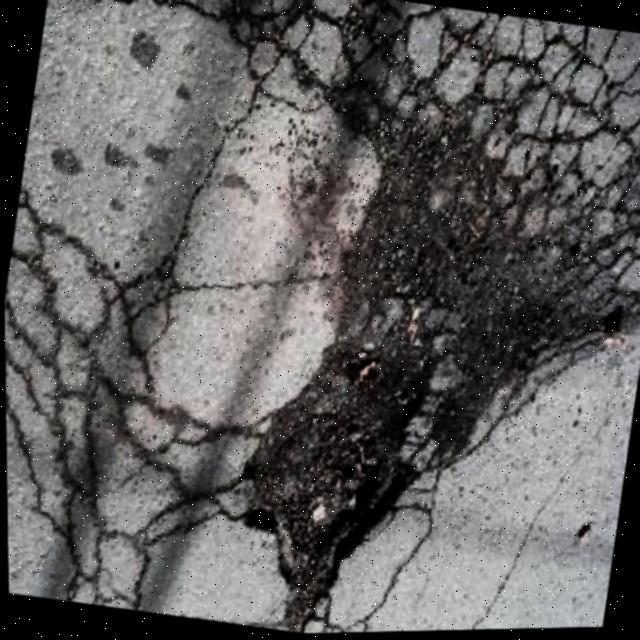pothole: (212, 326, 438, 636)
